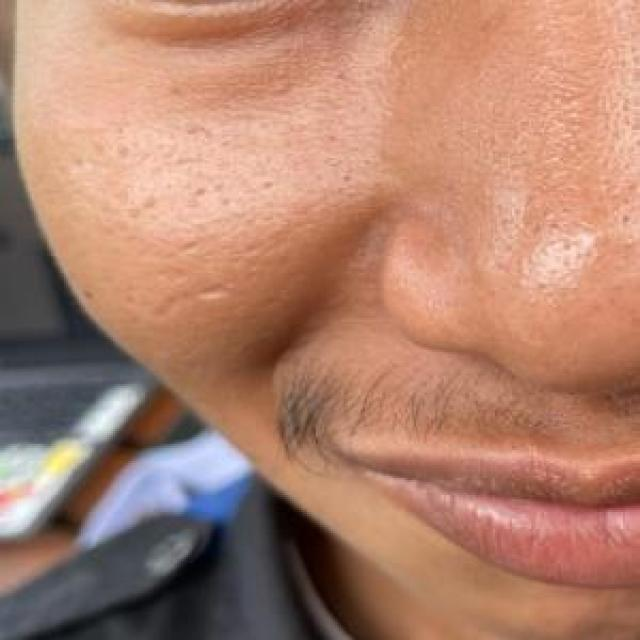Oily-Skin: (367, 0, 640, 373), (16, 100, 386, 270)
